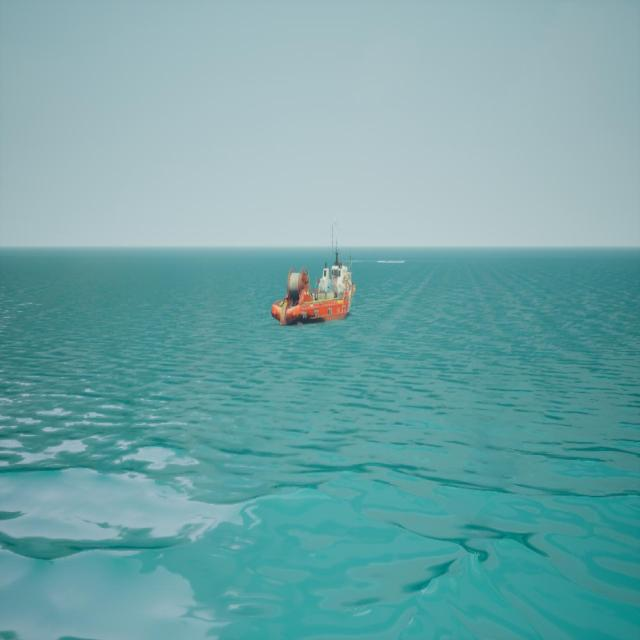tug boat: (277, 216, 356, 328)
